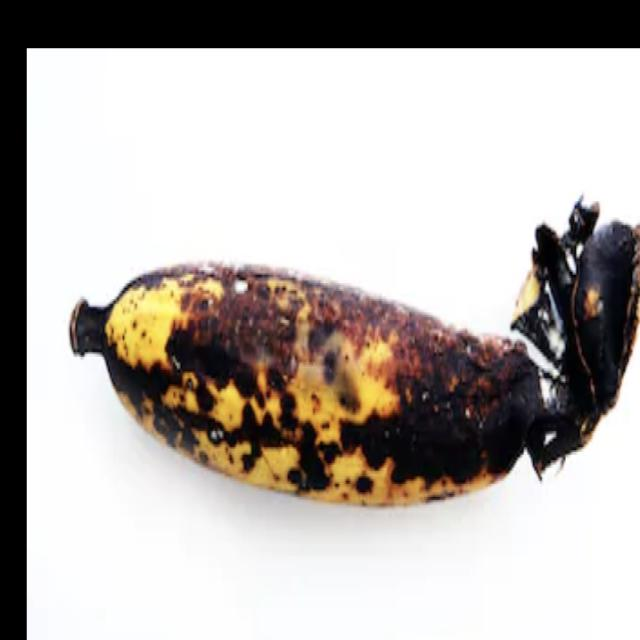Rotten: (58, 166, 640, 553)
